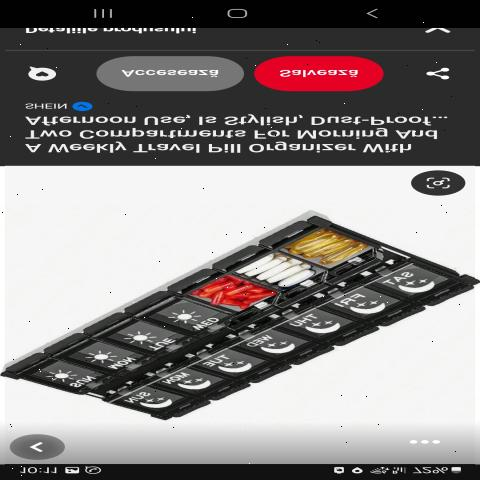PillBox: (9, 209, 479, 424)
